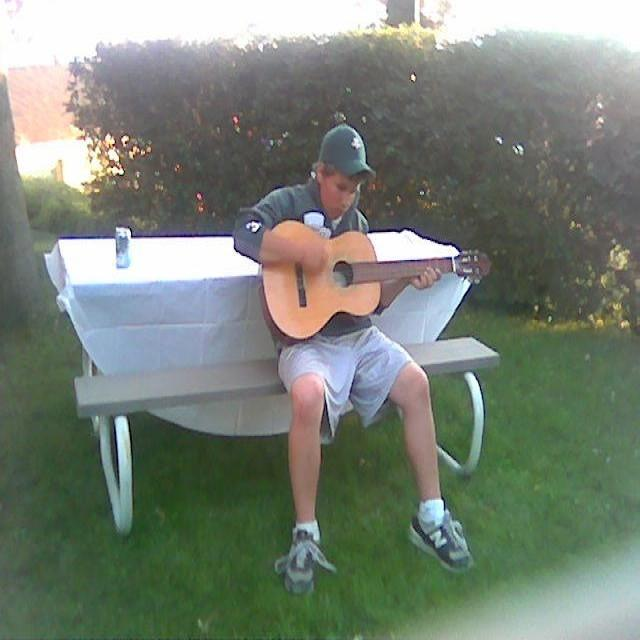guitar: (256, 216, 493, 346)
